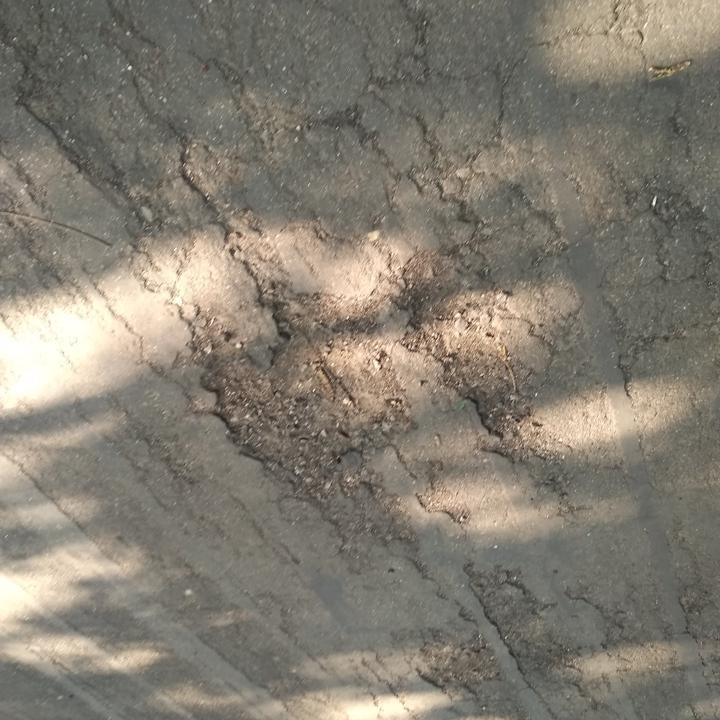pothole: (177, 283, 405, 491), (391, 250, 535, 443), (414, 625, 497, 703)
